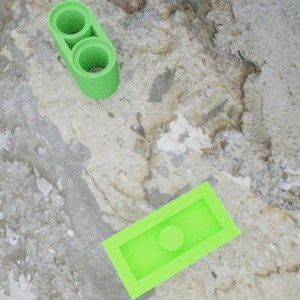lego: (101, 181, 240, 300), (47, 0, 119, 99)
